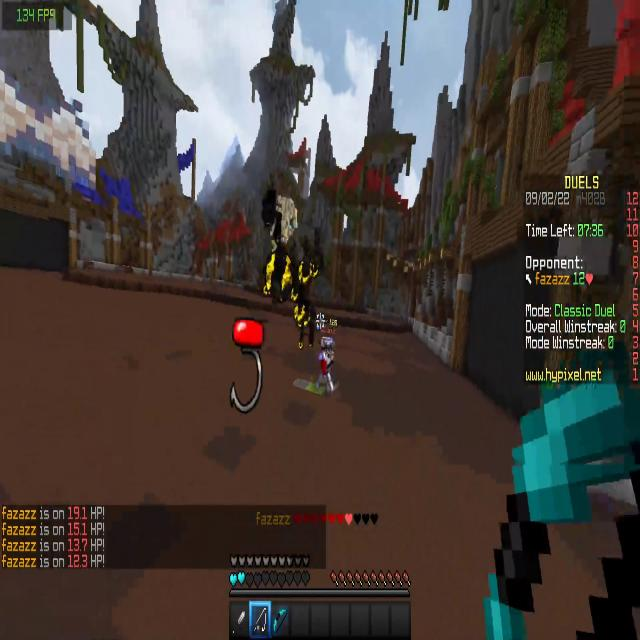Player: (315, 330, 338, 401)
